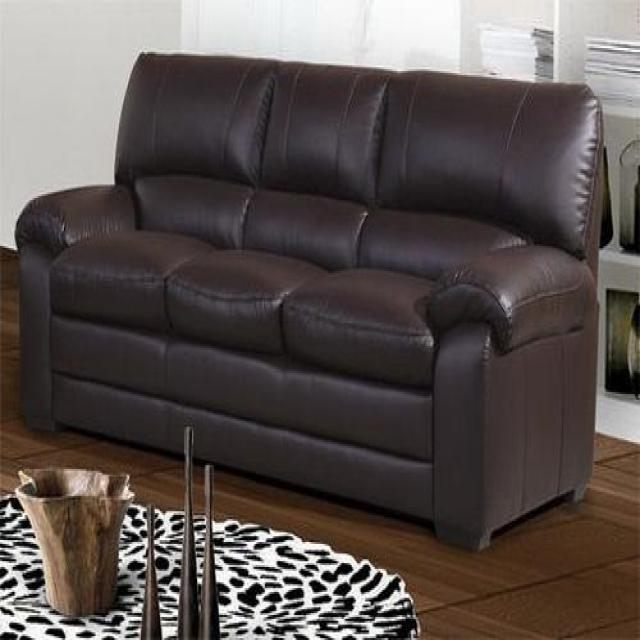sofa: (12, 47, 605, 553)
